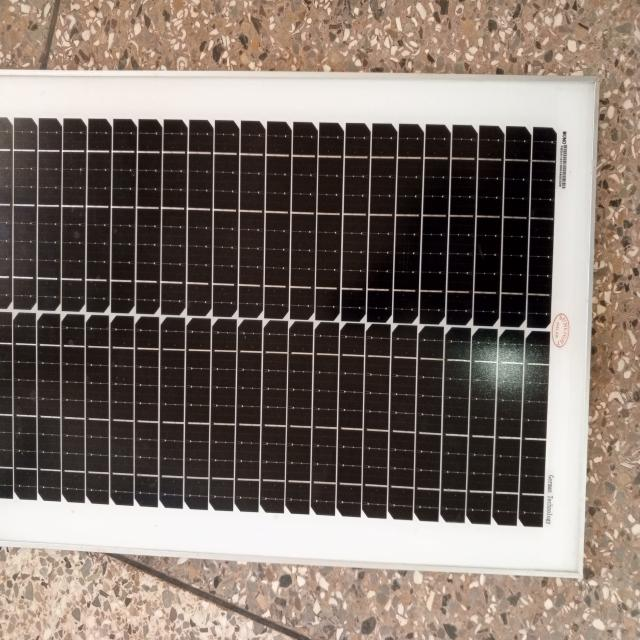Clean: (3, 85, 572, 536)
